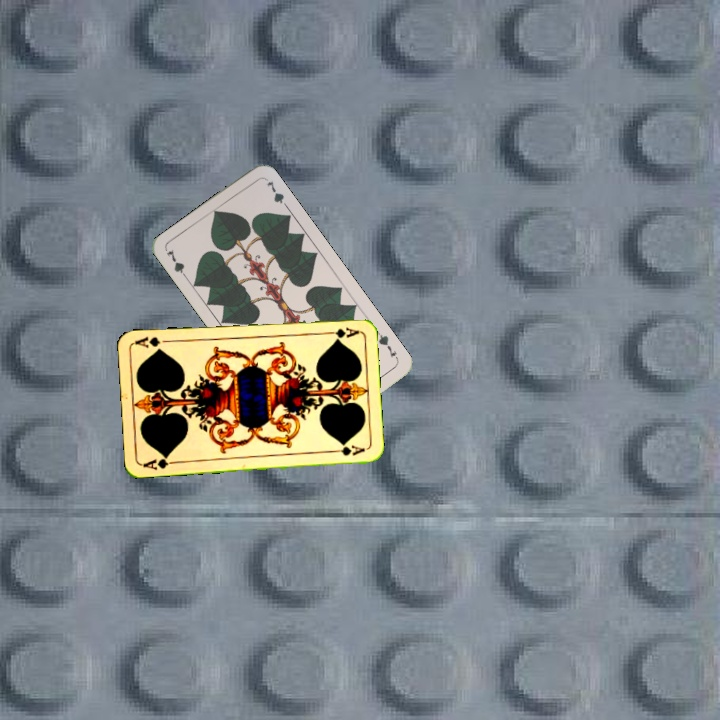G7: (163, 245, 191, 283), (373, 327, 401, 363)
GA: (139, 452, 180, 472), (320, 323, 361, 340)
